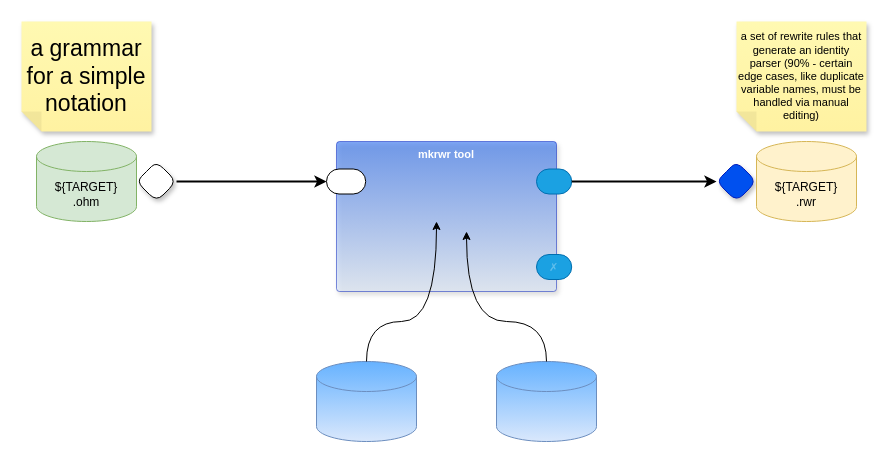
This 889x459 diagram has some shape labels left out. Here are the shapes that lost their labels. From the top down, the centre of each, then its label:
point (366, 401): mkrwr.ohm
point (546, 401): mkrwr.rwr
